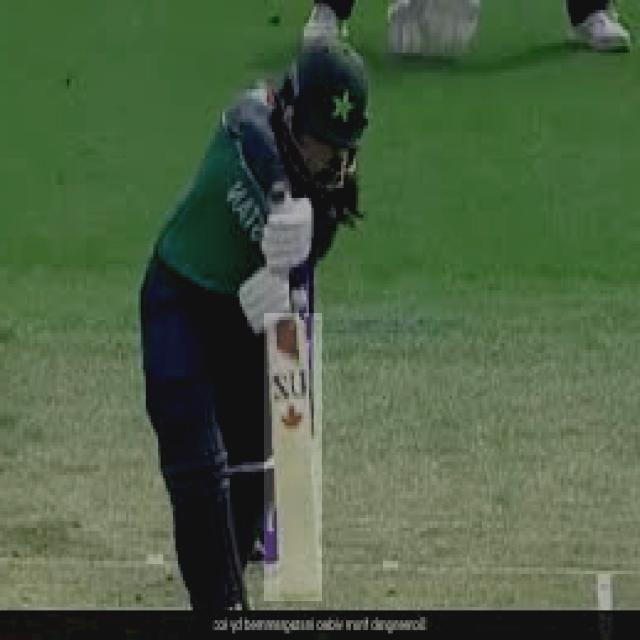bat: (266, 315, 329, 608)
toe: (277, 587, 323, 602)
